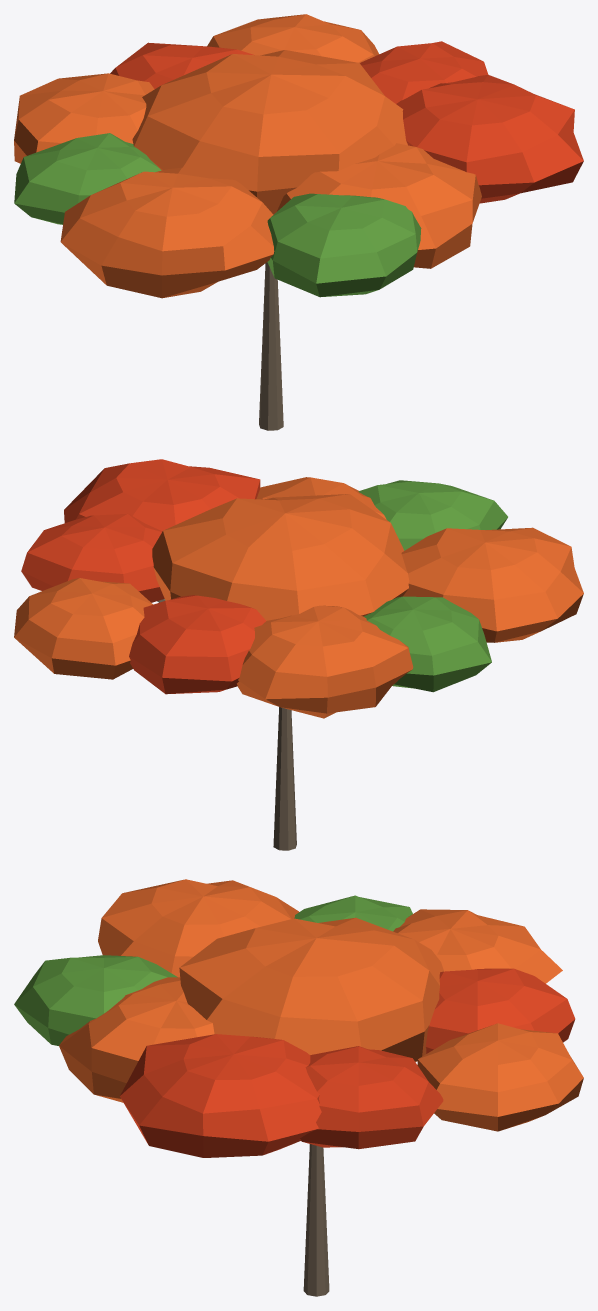
Rendered from tree_flamboyant_medium.glb.
3 renders of one model, top to bottom at view 1: azimuth 30°, elevation 25°; view 2: azimuth 150°, elevation 25°; view 3: azimuth 270°, elevation 25°, orthographic. The views are drawn at different scales.
Parts seen in each view (by area): view 1: tree_flamboyant_medium; view 2: tree_flamboyant_medium; view 3: tree_flamboyant_medium.
Boxes of the visible parts, left/top/right/bottom form: tree_flamboyant_medium: left=14, top=14, right=583, bottom=430; tree_flamboyant_medium: left=14, top=459, right=583, bottom=850; tree_flamboyant_medium: left=14, top=879, right=583, bottom=1296.
Size of the model in its own units: 14.71 by 9.73 by 14.24.
